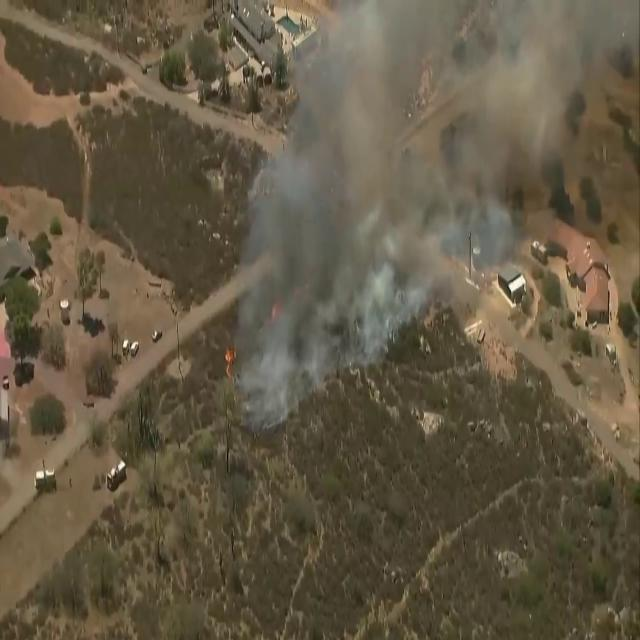Fire: (223, 335, 237, 376)
Smoke: (231, 0, 629, 390)
